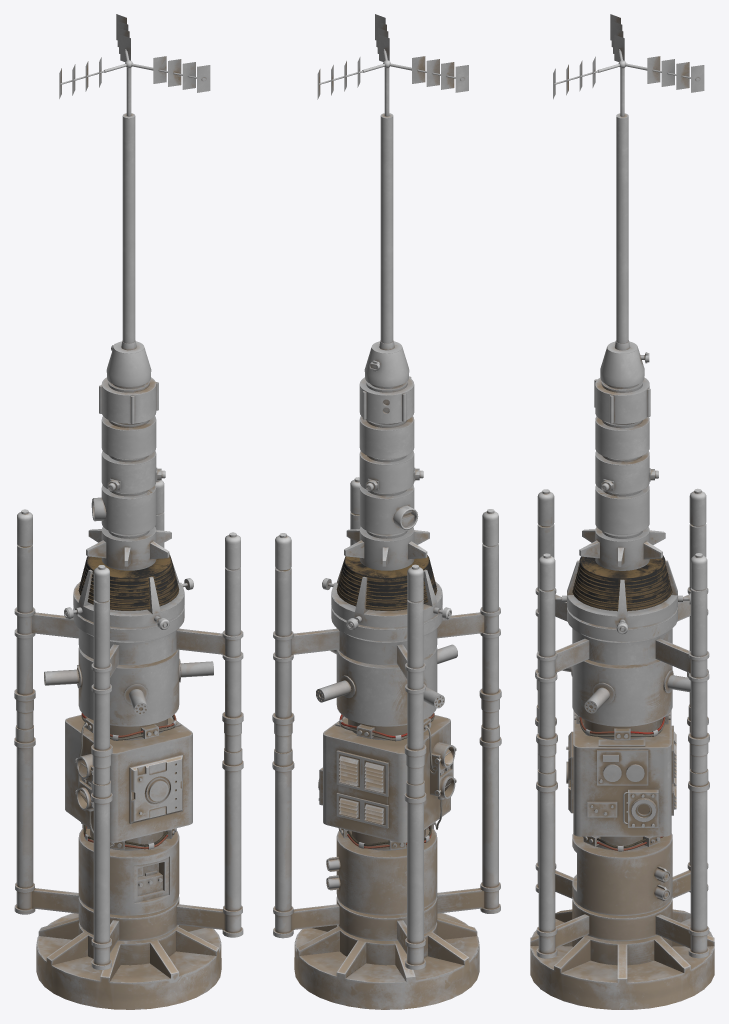
The model's file is Tatooine_Moisture_Vaporator.fbx.
3 views of the same model, side by side, from view 1: azimuth 30°, elevation 25°; view 2: azimuth 150°, elevation 25°; view 3: azimuth 270°, elevation 25° (orthographic).
Visible parts, largest first — view 1: mesh_0; view 2: mesh_0; view 3: mesh_0.
Boxes of the visible parts, bbox=[...] form: mesh_0: bbox=[14, 14, 243, 1009]; mesh_0: bbox=[272, 14, 501, 1009]; mesh_0: bbox=[530, 14, 714, 1009].
Bounding box in the file's own units: 1 × 5.53 × 1.
Materials: 1 (1 with a texture image).
